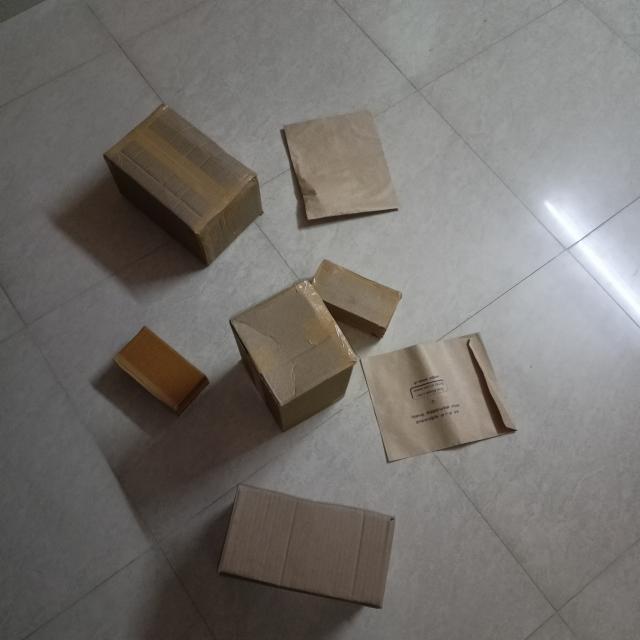box: (105, 108, 265, 266), (221, 487, 398, 610), (362, 335, 516, 466), (230, 282, 357, 432), (282, 112, 401, 230), (115, 329, 210, 417)
